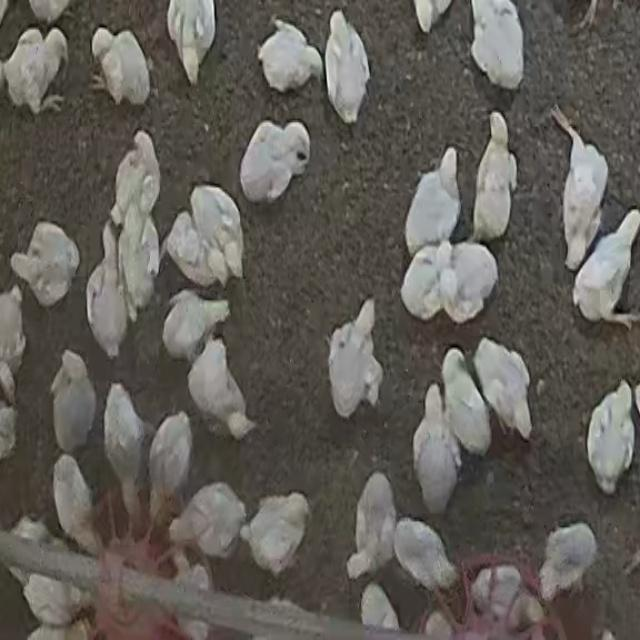chicken: (553, 109, 611, 270), (166, 182, 248, 290), (572, 210, 640, 329), (186, 336, 256, 442), (325, 298, 382, 419), (472, 337, 535, 445), (103, 383, 151, 518), (412, 384, 461, 515), (404, 148, 462, 256), (10, 222, 80, 308), (585, 381, 637, 495), (441, 348, 493, 462), (85, 226, 129, 360), (240, 120, 310, 204), (2, 28, 68, 113), (348, 472, 399, 582), (472, 112, 517, 236), (11, 559, 93, 626), (324, 10, 371, 124), (112, 130, 162, 236), (248, 495, 313, 575), (161, 290, 230, 365), (119, 199, 162, 319), (536, 521, 598, 602), (258, 19, 324, 95), (50, 350, 96, 459), (52, 456, 99, 559), (438, 242, 498, 322), (469, 0, 525, 85), (173, 489, 244, 555), (470, 562, 542, 626), (95, 26, 151, 107), (394, 520, 454, 590), (166, 2, 218, 82), (149, 414, 190, 513), (400, 242, 449, 315), (171, 555, 209, 637), (0, 286, 27, 375), (359, 586, 400, 636), (413, 0, 458, 39)
